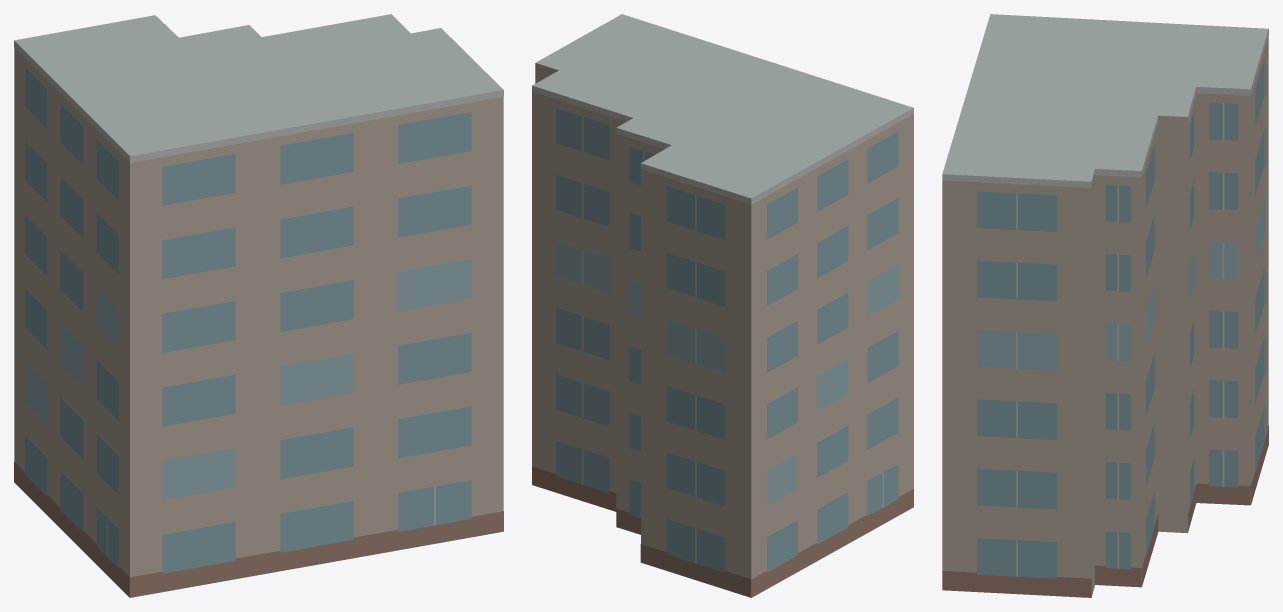
Rendered from survey-upis-32669212.glb.
3 renders of one model, left to right at view 1: azimuth 30°, elevation 25°; view 2: azimuth 150°, elevation 25°; view 3: azimuth 270°, elevation 25°, orthographic. The views are drawn at different scales.
Parts seen in each view (by area): view 1: survey-upis-32669212.tmp; view 2: survey-upis-32669212.tmp; view 3: survey-upis-32669212.tmp.
Boxes of the visible parts, x1,y1,x2,y2 form: survey-upis-32669212.tmp: (14, 14, 503, 597); survey-upis-32669212.tmp: (532, 14, 913, 597); survey-upis-32669212.tmp: (942, 14, 1268, 597).
Bounding box in the file's own units: 13.76 × 15.9 × 11.32.
